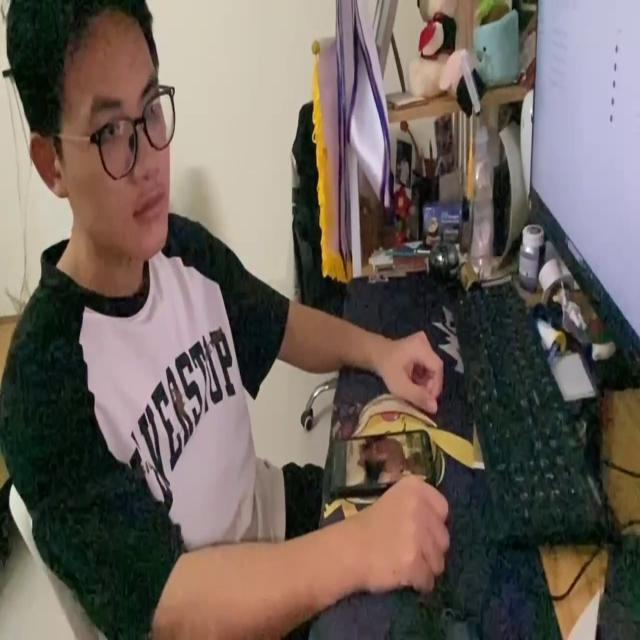laptop: (526, 0, 640, 369)
phone: (322, 422, 437, 498)
student: (4, 2, 452, 640)
